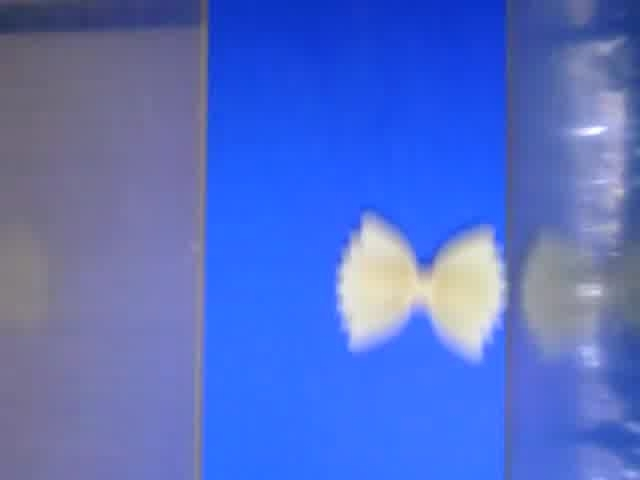farfalle: (336, 210, 506, 363)
